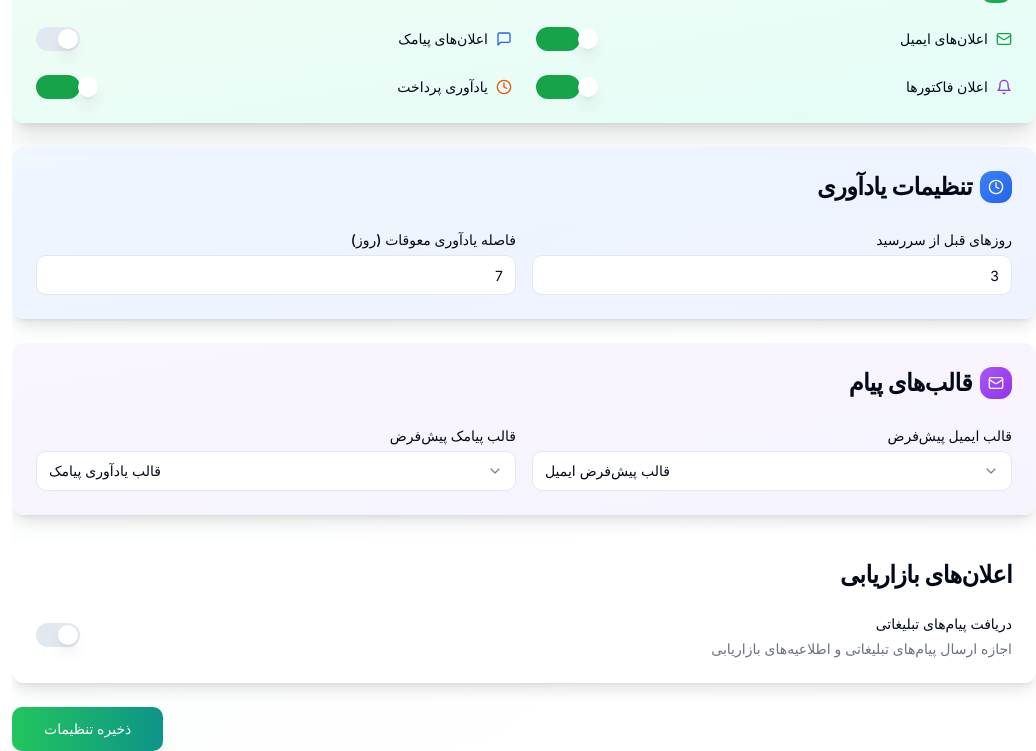
Test case: NotificationSettings › disables save button while saving
(page scrolled)
Click the button "ذخیره تنظیمات". click: (88, 729)
box: 12,707 -> 163,750
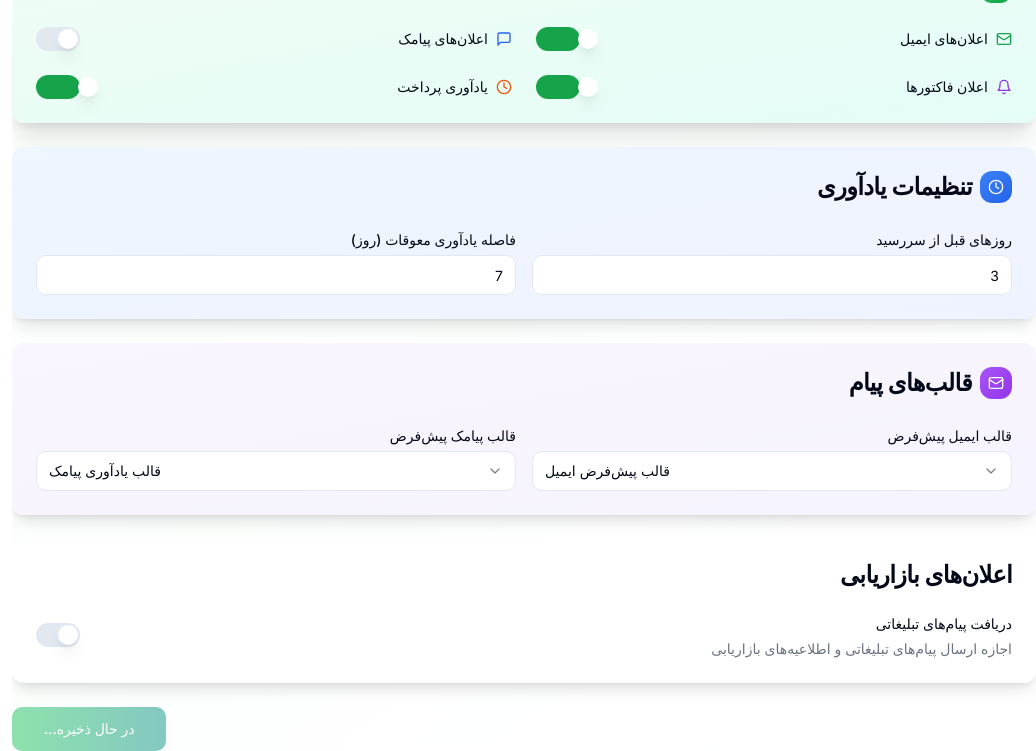
Now the button "در حال ذخیره..." is shown, box 12,707 -> 166,750
